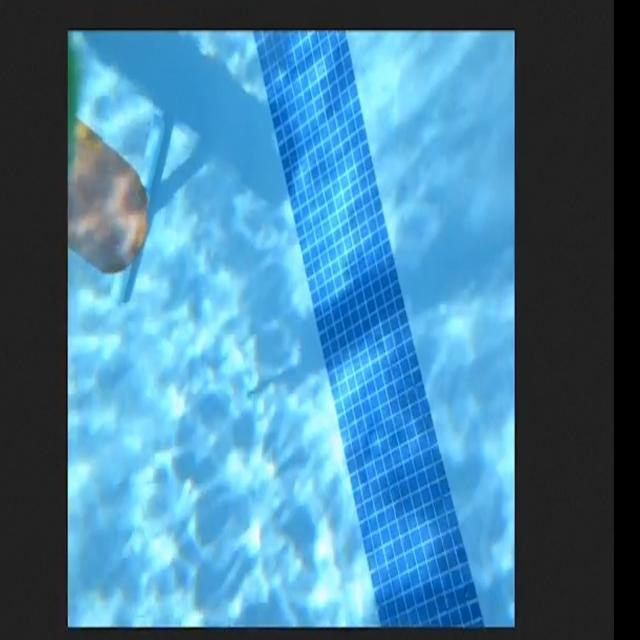Path: (68, 87, 158, 288)
